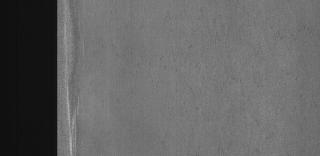silk spot: (63, 16, 95, 148)
